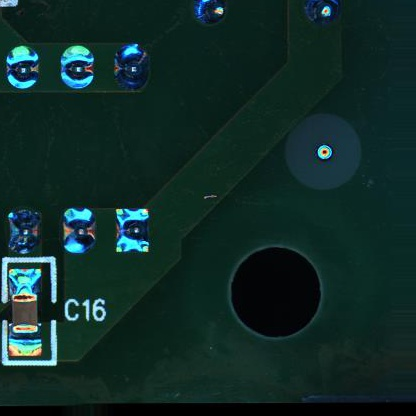spot: (113, 205, 153, 255), (112, 43, 152, 91), (60, 207, 99, 255), (5, 208, 42, 256), (59, 44, 96, 91), (5, 44, 40, 90)
